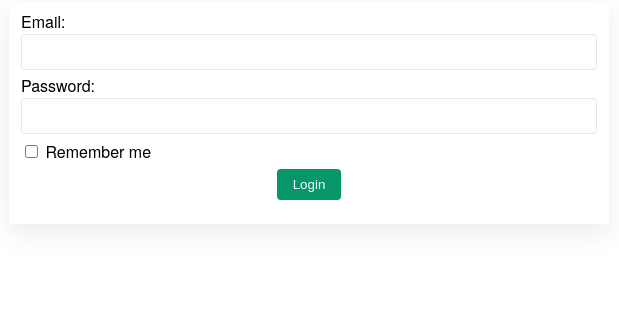
Test: Login component › show/hide error message when email is invalid
Type "invalid-email" into the field labelled "Email:". click: (309, 52)
box: x1=21 y1=34 x2=597 y2=70
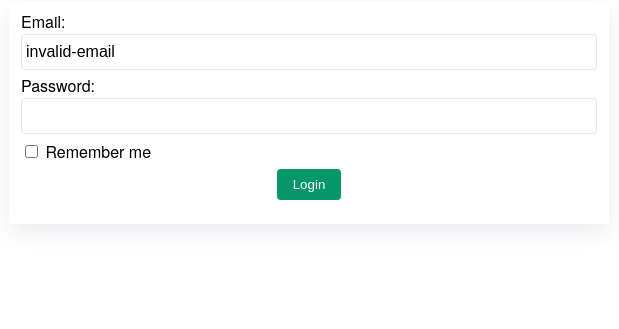
Click the button "Login". click: (309, 184)
box: x1=277 y1=169 x2=341 y2=200
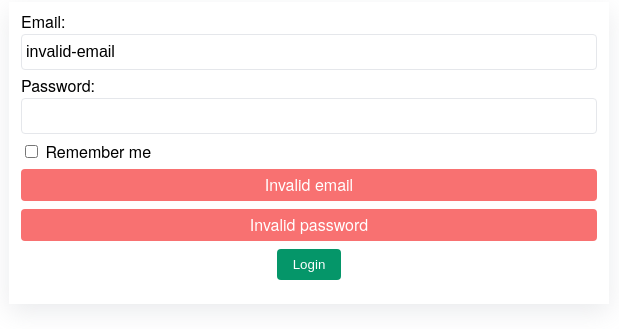
Expected: the text "Invalid email" is shown, x1=21 y1=169 x2=597 y2=201
Replace the text in the field labelled "Email:" with "valid@email.pl". click: (309, 52)
box: x1=21 y1=34 x2=597 y2=70
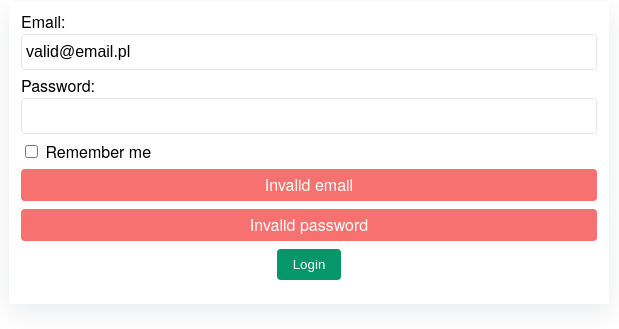
Click the button "Login". click: (309, 264)
box: x1=277 y1=249 x2=341 y2=280
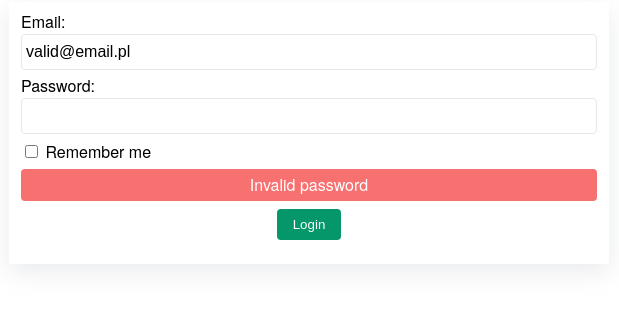
Expected: the text "Invalid email" is gone
